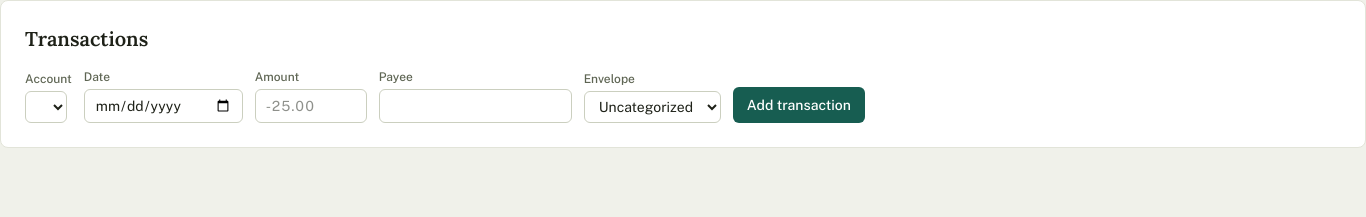
Test: TransactionsPanel › adds a new transaction to the list after submitting the form
This screenshot has width=1366, height=217.
Type "2026-01-06" into the date field labelled "Date" at (163, 106), box [84,89,243,123]
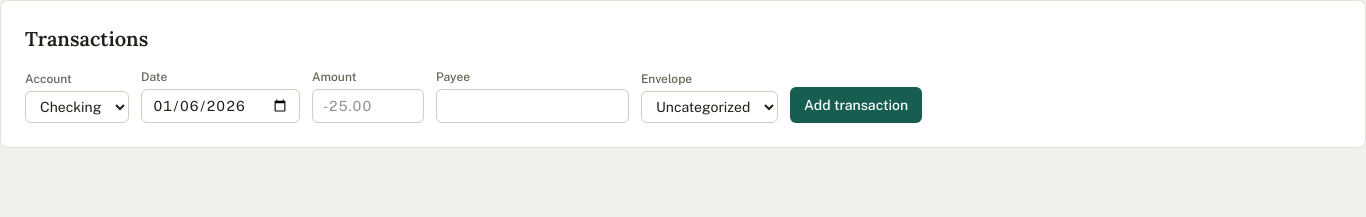
Type "-10.00" into the field labelled "Amount" at (368, 106), box [312,89,424,123]
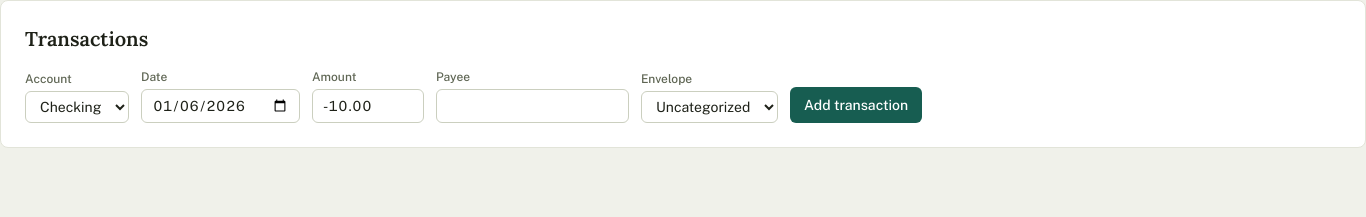
Type "Coffee Shop" into the field labelled "Payee" at (532, 106), box [436,89,629,123]
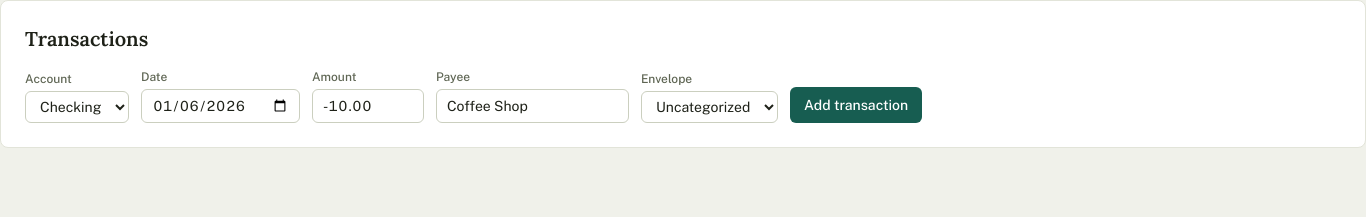
Select "Groceries" in the dropdown labelled "Envelope" at (710, 107), box [641,91,778,123]
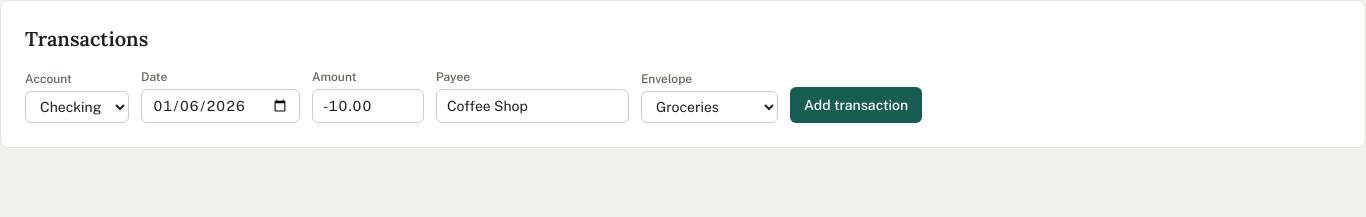
Click the button "Add transaction" at (856, 105), box [790,87,922,123]
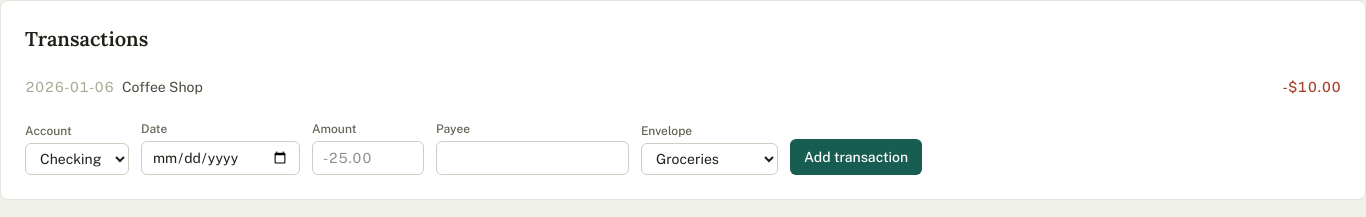
Now the text "Coffee Shop" is shown, box [122,77,203,97]
